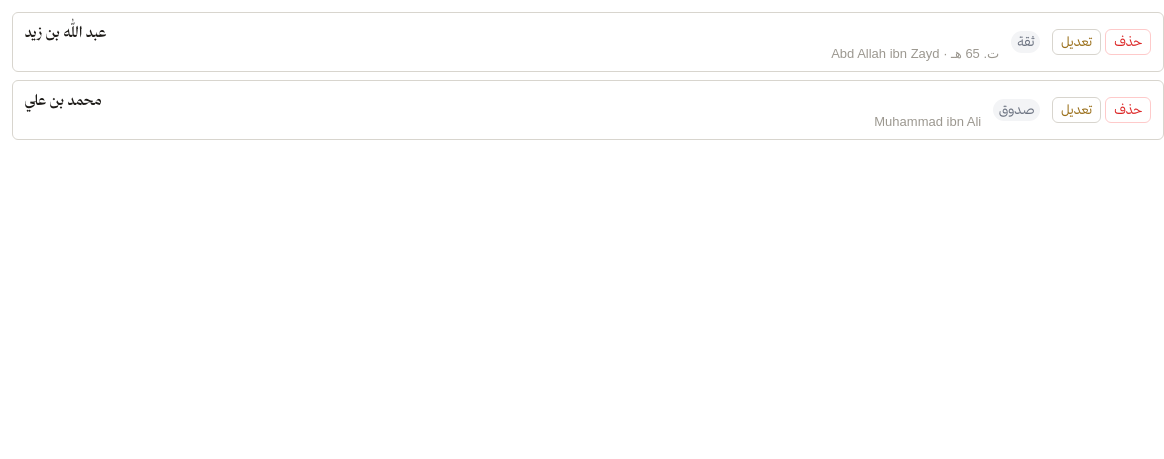
Test: CustomNarratorManager › opening a second edit collapses the first
Click the button "تعديل" next to "ثقة".
click(1077, 42)  # box [1052, 29, 1101, 55]
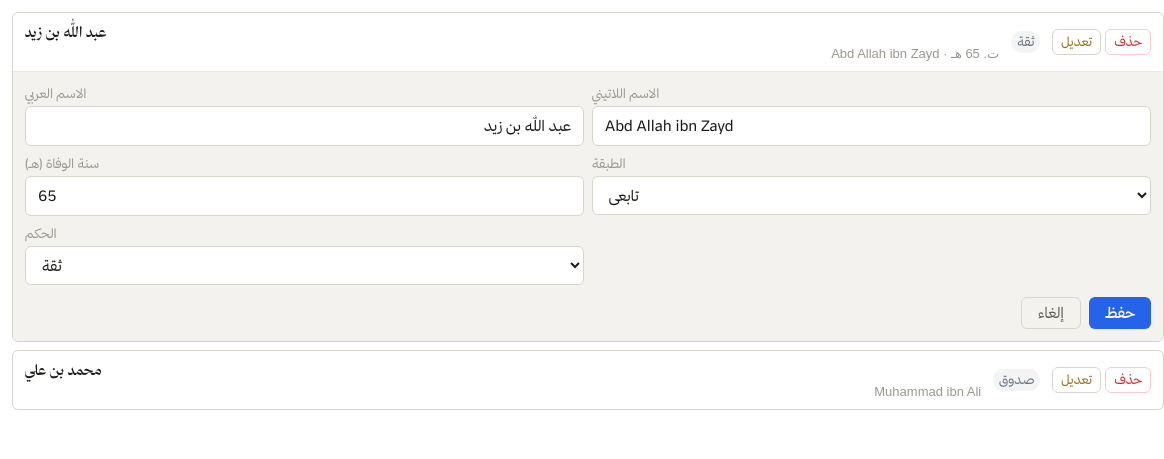
Expected: the field showing "عبد الله بن زيد" is shown, [25, 106, 584, 146]
Click the button "تعديل" next to "صدوق".
click(1077, 380)  # box [1052, 367, 1101, 393]
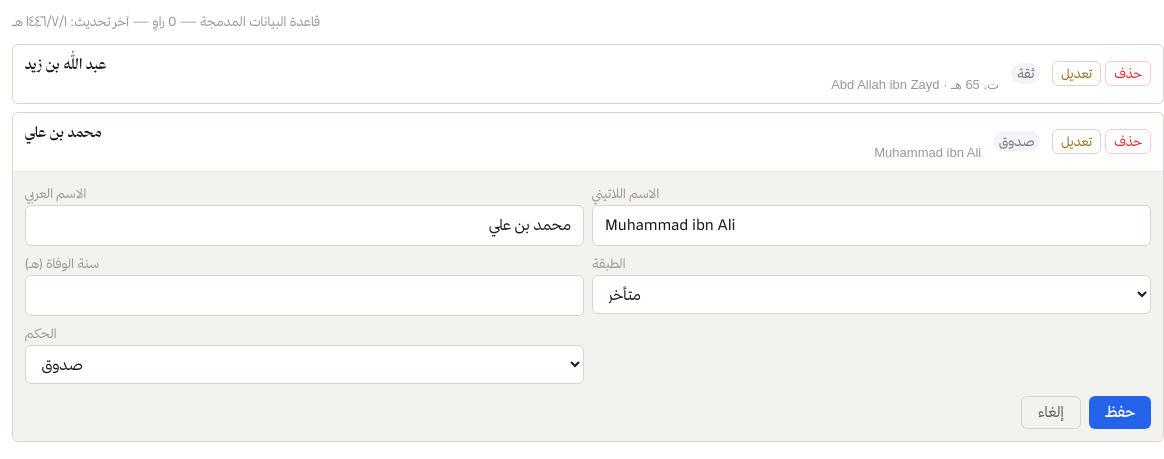
Expected: the field showing "محمد بن علي" is shown, [25, 205, 584, 246]
